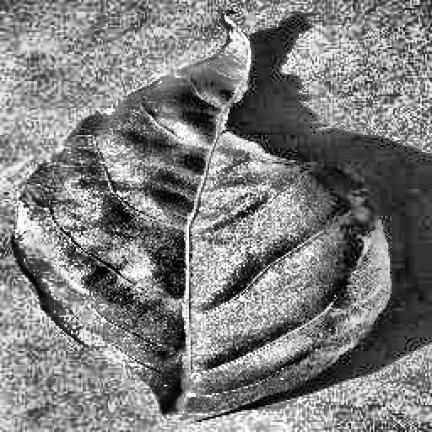leaf: (14, 17, 390, 418)
